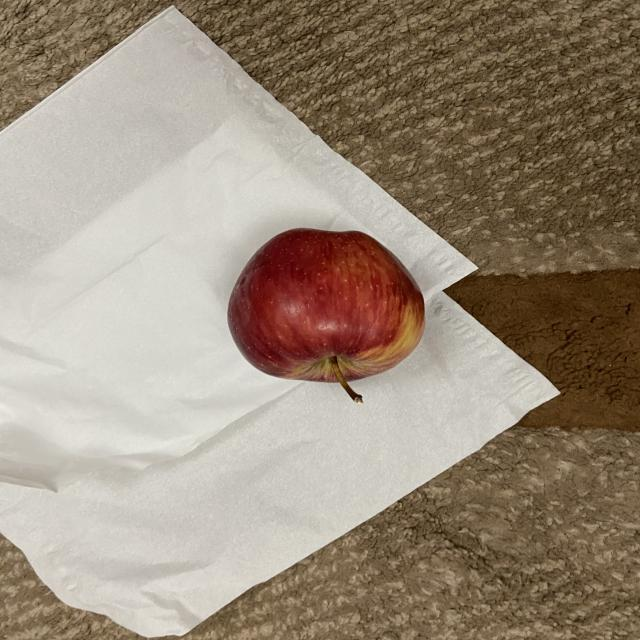apple: (224, 224, 423, 410)
